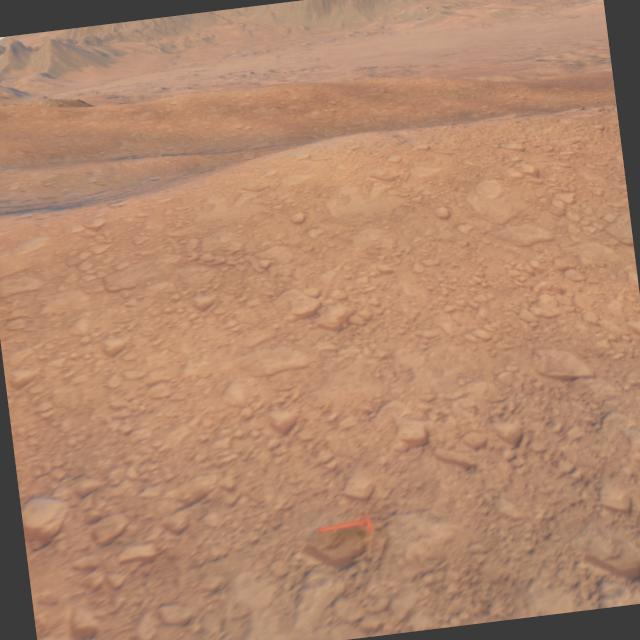newhammer: (315, 508, 372, 538)
